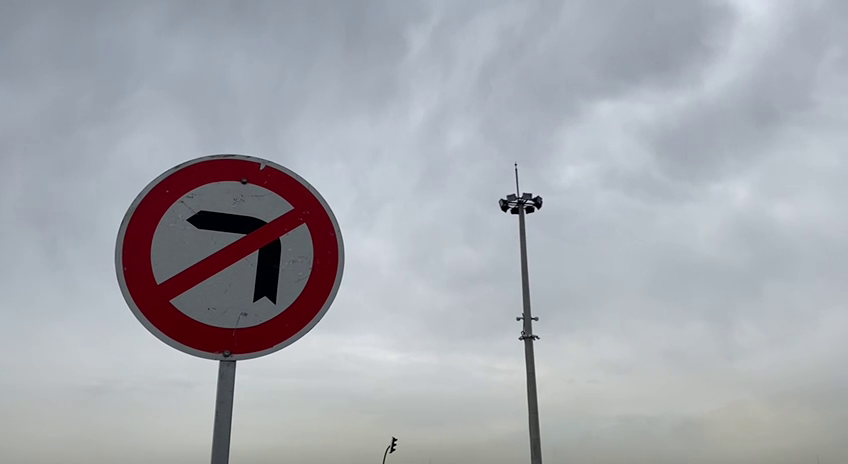noTurnLeft: (109, 147, 350, 370)
